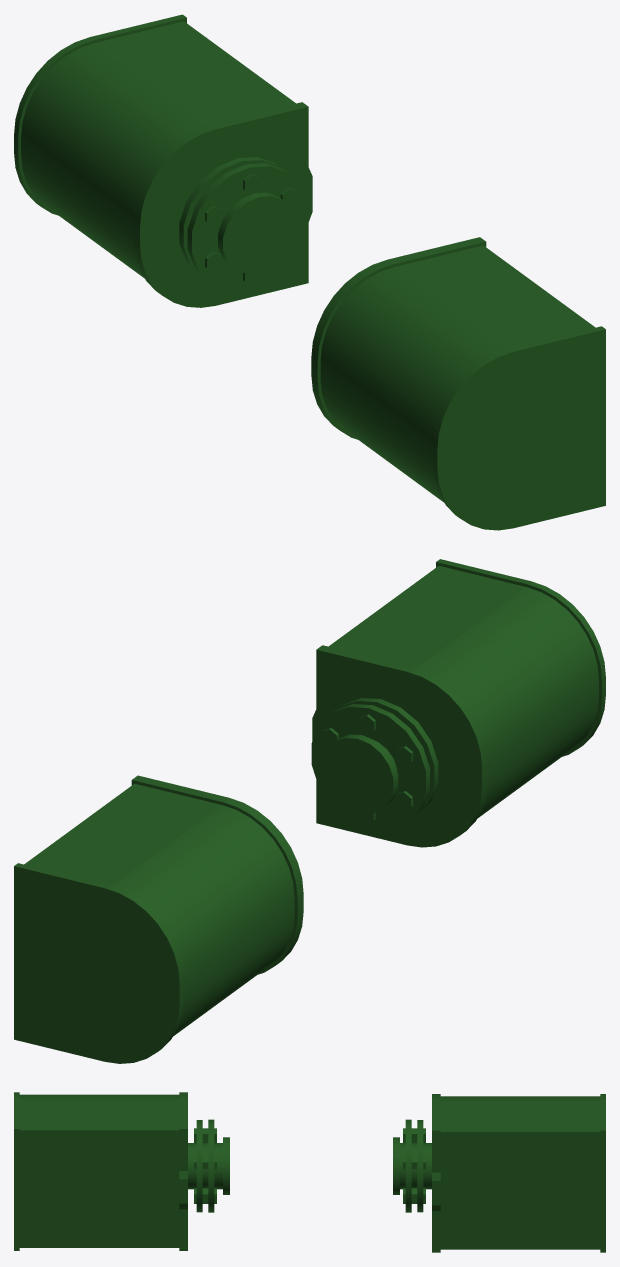
The model's file is Pump-Central-3.fbx.
The picture shows the model from 3 angles, top to bottom: view 1: azimuth 30°, elevation 25°; view 2: azimuth 150°, elevation 25°; view 3: azimuth 270°, elevation 25°; orthographic projection. The views are drawn at different scales.
Visible parts, largest first — view 1: PumpCentral-3_Outflow-1, PumpCentral-3_Inflow-1; view 2: PumpCentral-3_Inflow-1, PumpCentral-3_Outflow-1; view 3: PumpCentral-3_Inflow-1, PumpCentral-3_Outflow-1.
Part boxes in pixels (<box>): PumpCentral-3_Outflow-1: <box>14,14,312,307</box>; PumpCentral-3_Inflow-1: <box>311,237,605,530</box>; PumpCentral-3_Inflow-1: <box>311,559,605,847</box>; PumpCentral-3_Outflow-1: <box>14,775,303,1063</box>; PumpCentral-3_Inflow-1: <box>14,1092,229,1250</box>; PumpCentral-3_Outflow-1: <box>393,1094,605,1252</box>.
Size of the model in its own units: 24.44 by 23.18 by 102.
